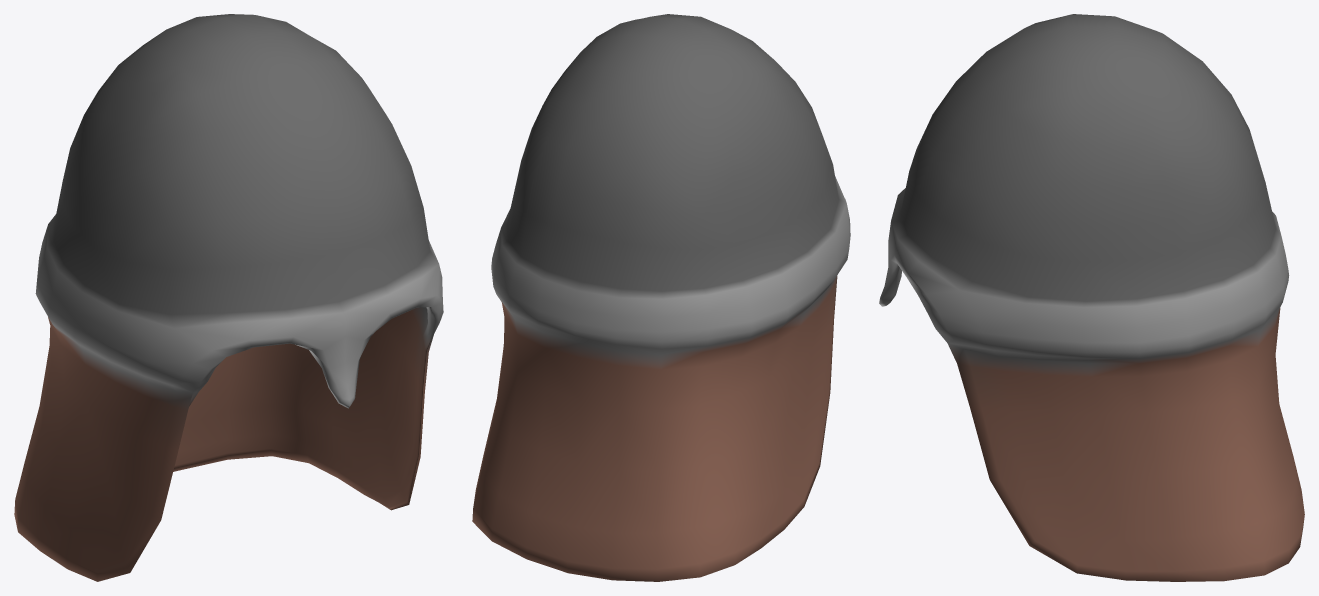
The model's file is Helmet_001.fbx.
3 views of the same model, side by side, from view 1: azimuth 30°, elevation 25°; view 2: azimuth 150°, elevation 25°; view 3: azimuth 270°, elevation 25° (orthographic). The views are drawn at different scales.
Visible parts, largest first — view 1: Helmet; view 2: Helmet; view 3: Helmet.
Boxes of the visible parts, x1,y1,x2,y2 form: Helmet: (14,14,443,581); Helmet: (472,14,850,581); Helmet: (879,14,1304,581).
Size of the model in its own units: 22.32 by 34.88 by 26.81.
